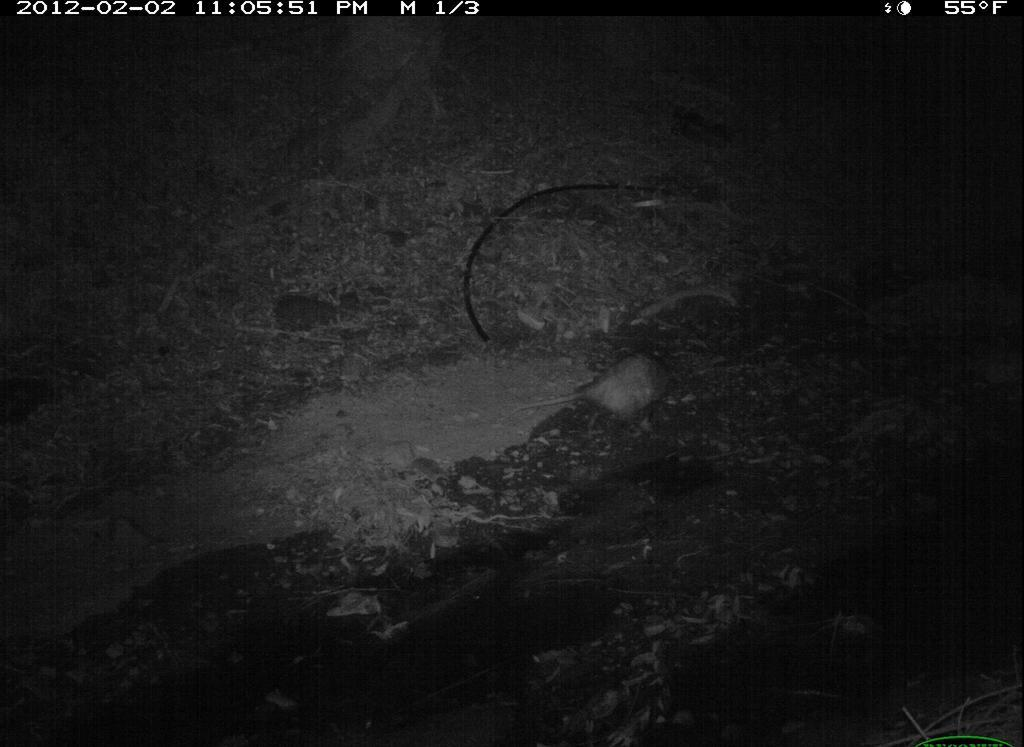opossum: (501, 340, 694, 441)
